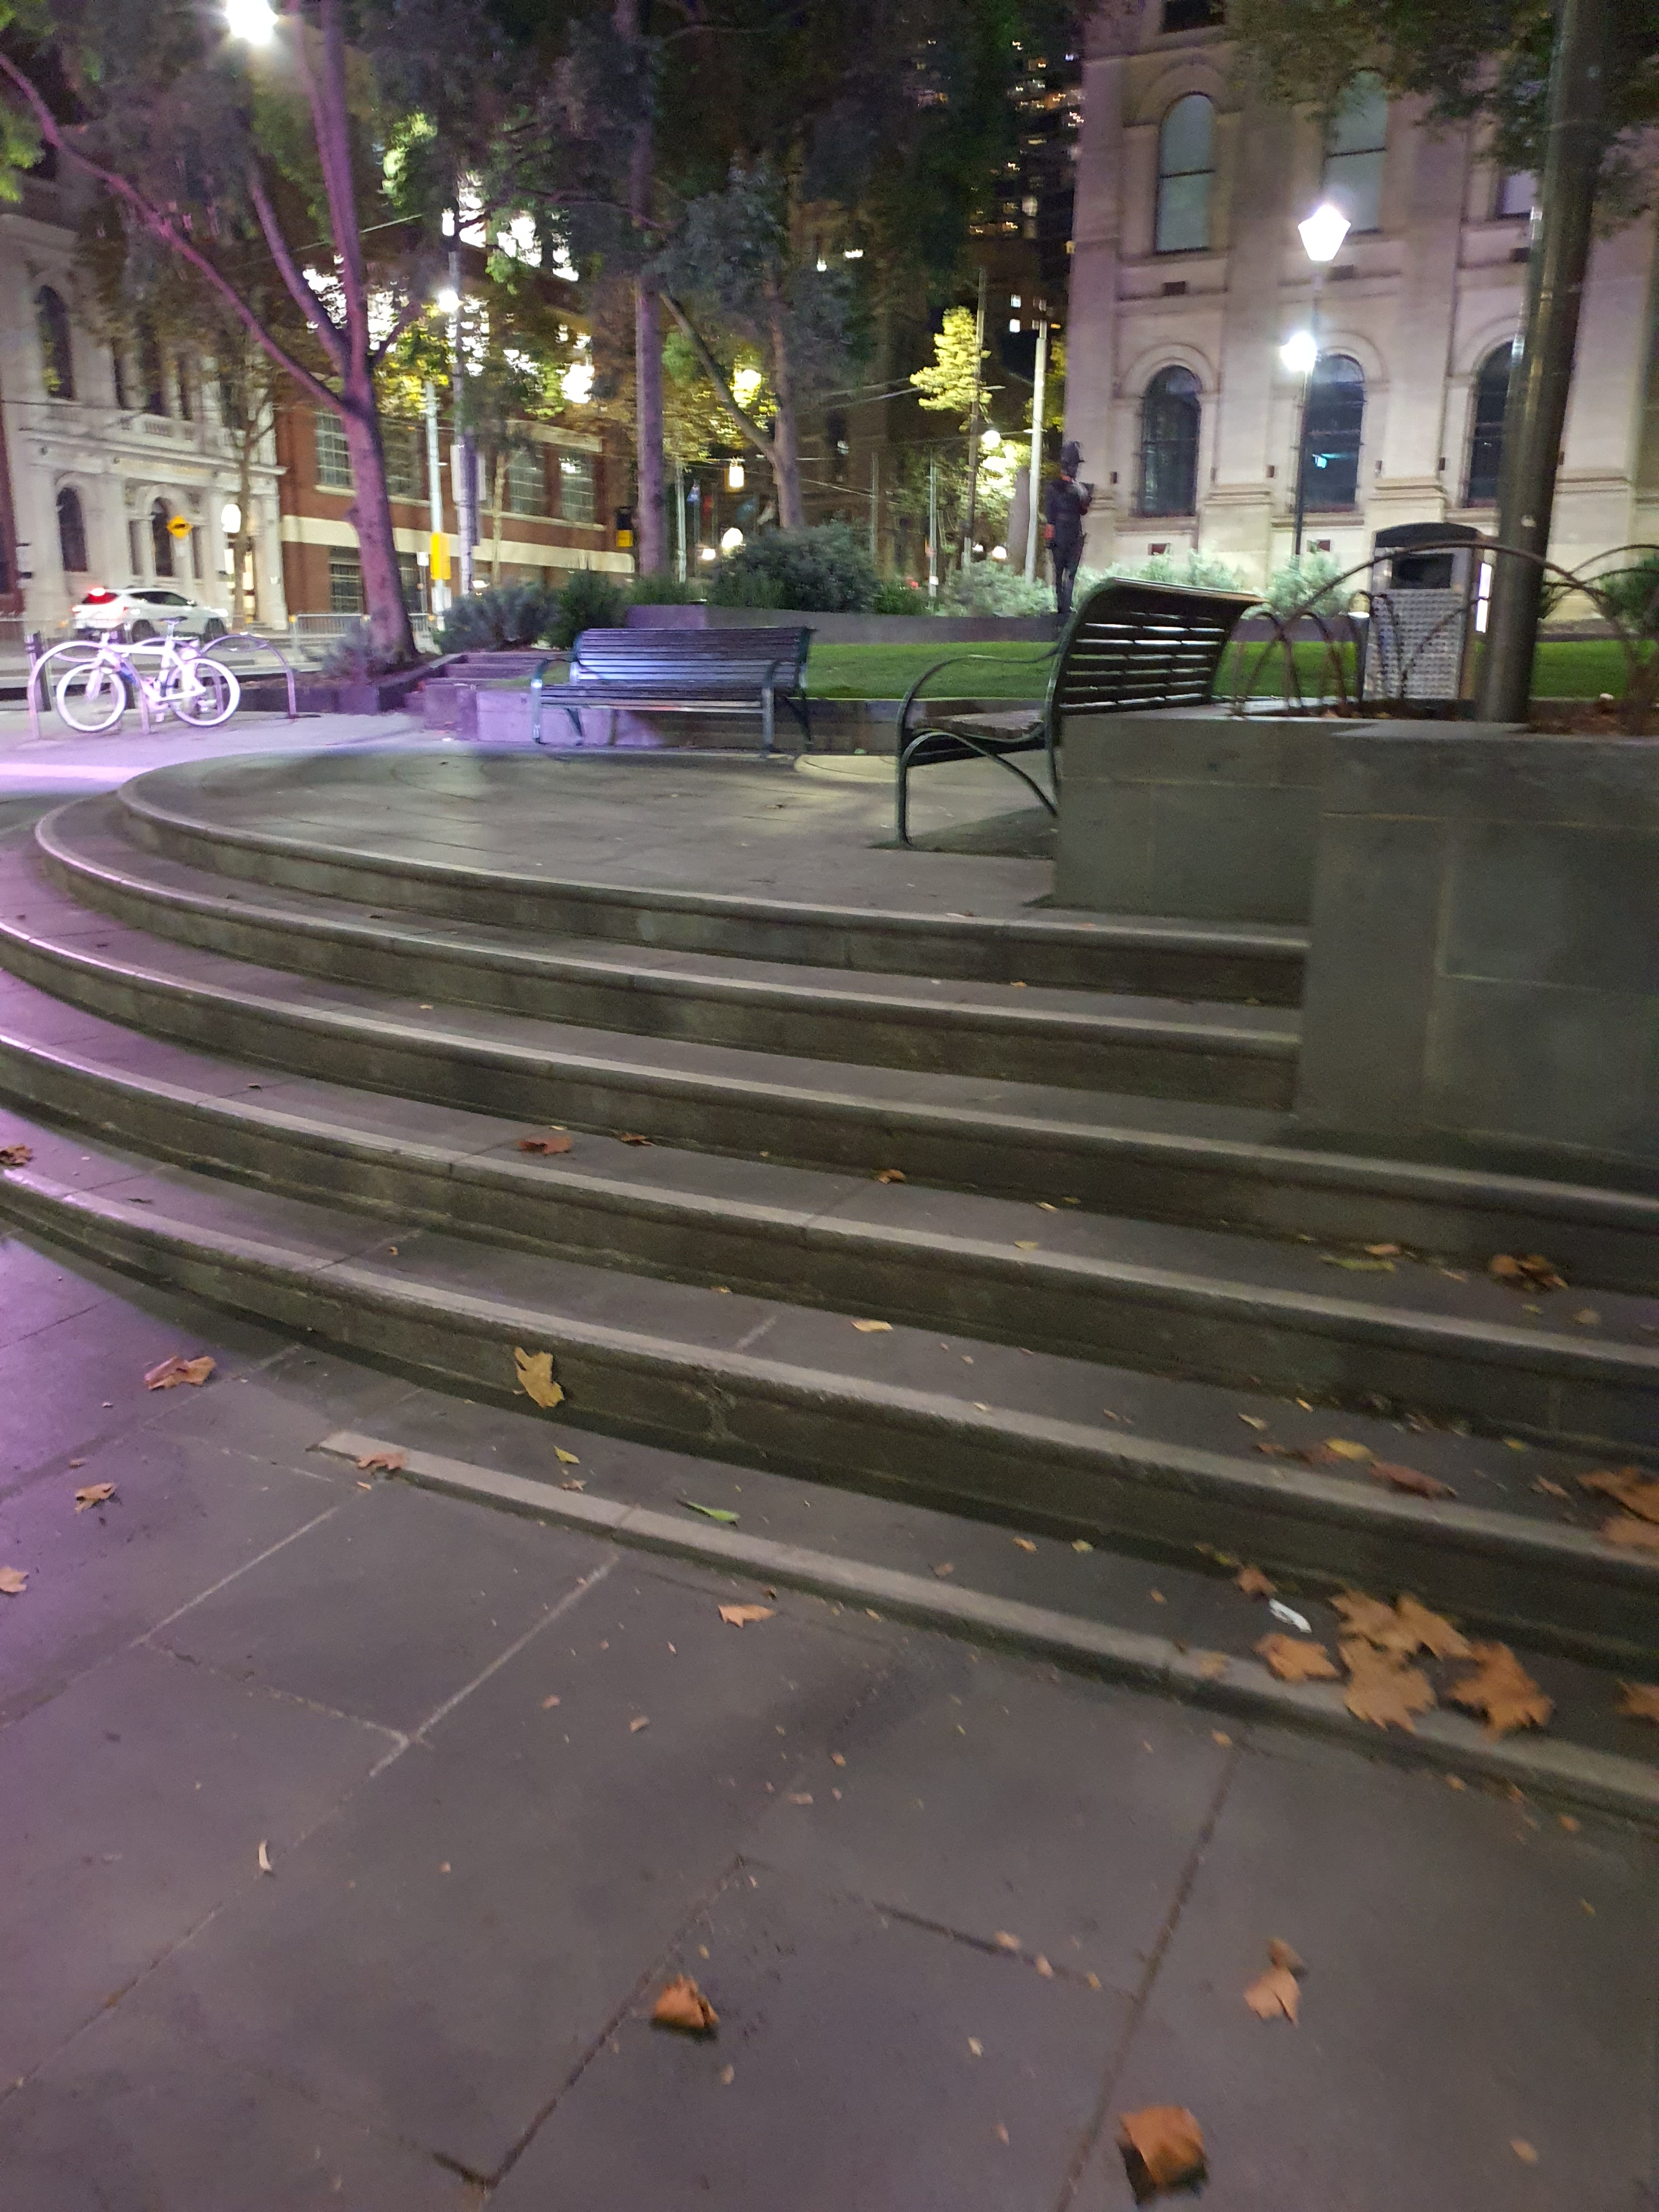upstairs: (136, 895, 1290, 1667)
